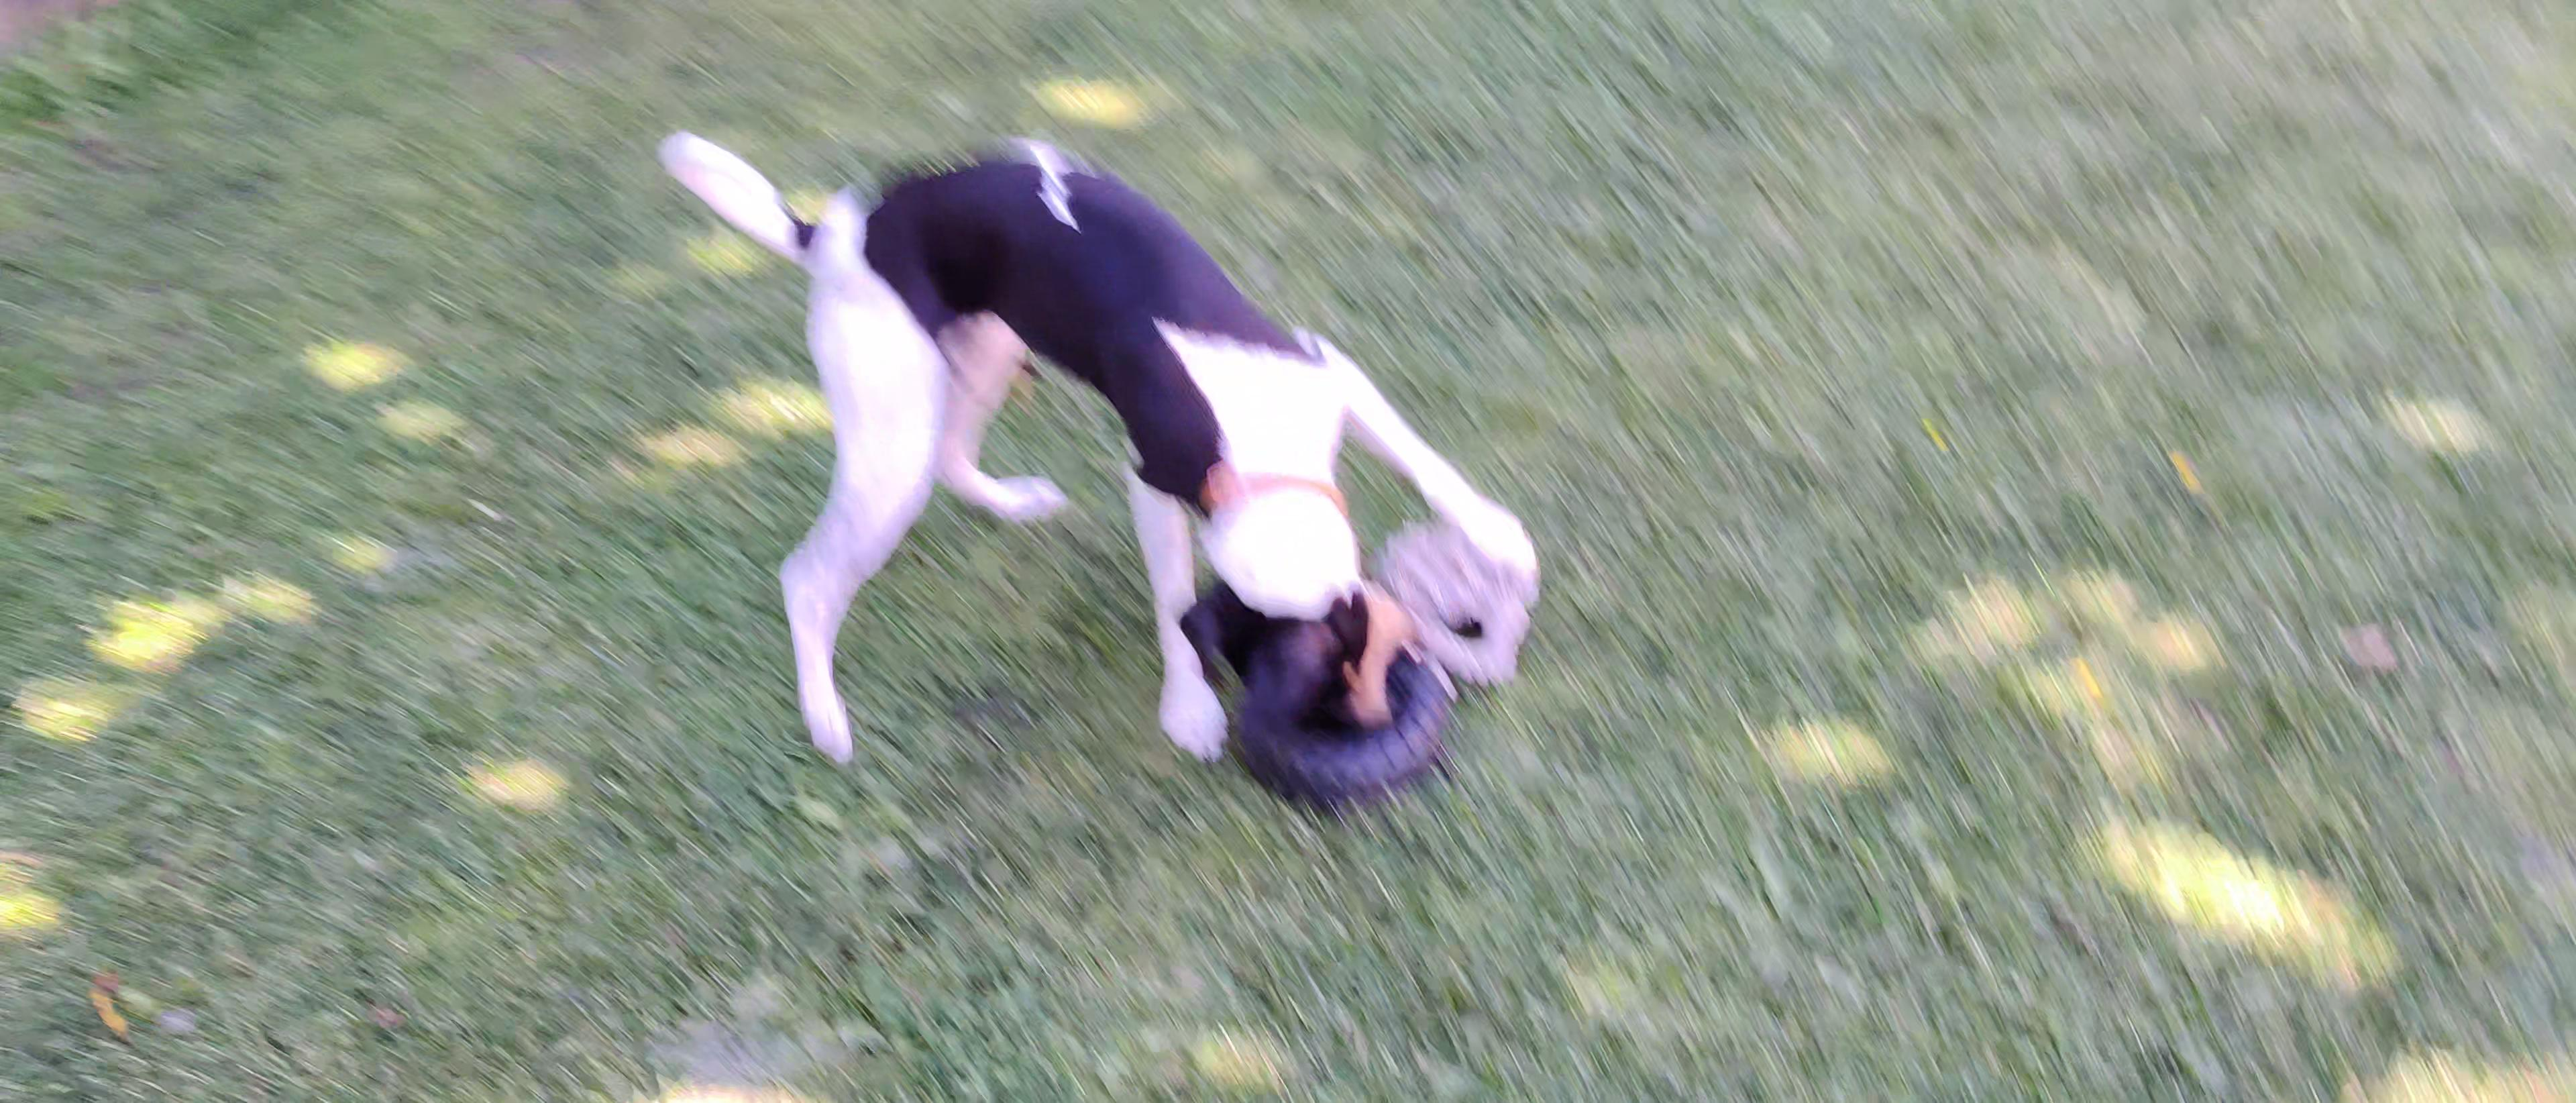Dog: (629, 94, 1569, 782)
